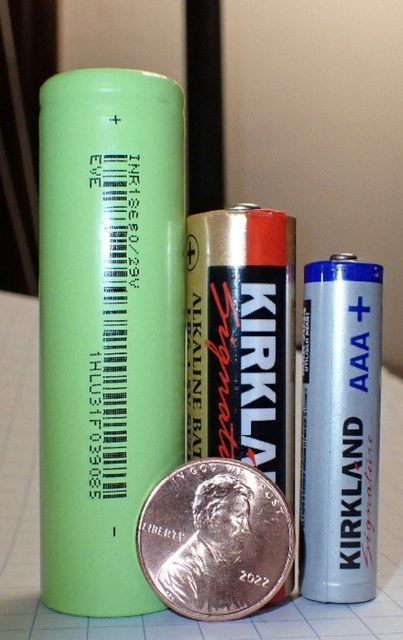Boat 33W Charger: (20, 32, 383, 608)
